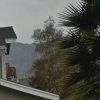Tree: (36, 6, 100, 95)
